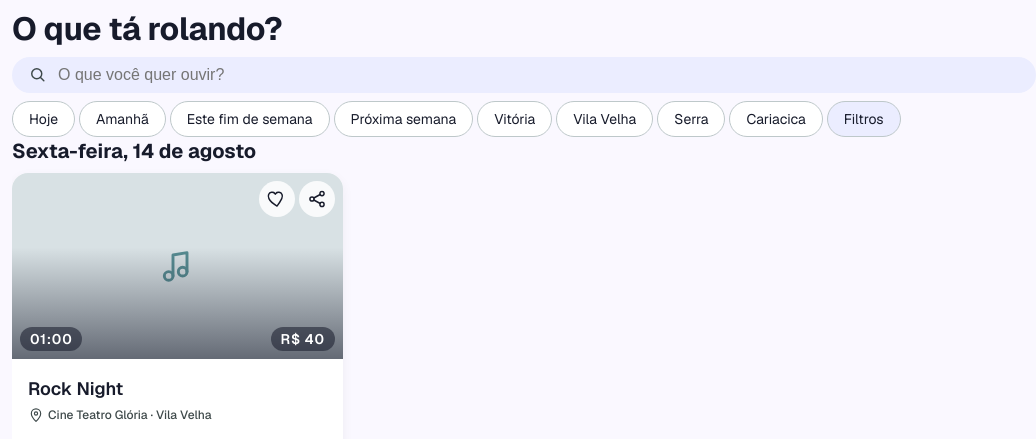
Test: EventFeedPage › given a visitor when typing a query then matching event cards replace the feed after debounce
Check: the heading "Rock Night" is shown, box [28, 377, 123, 400]
Type "forro" into the search field at point(538, 75), box [56, 65, 1020, 85]
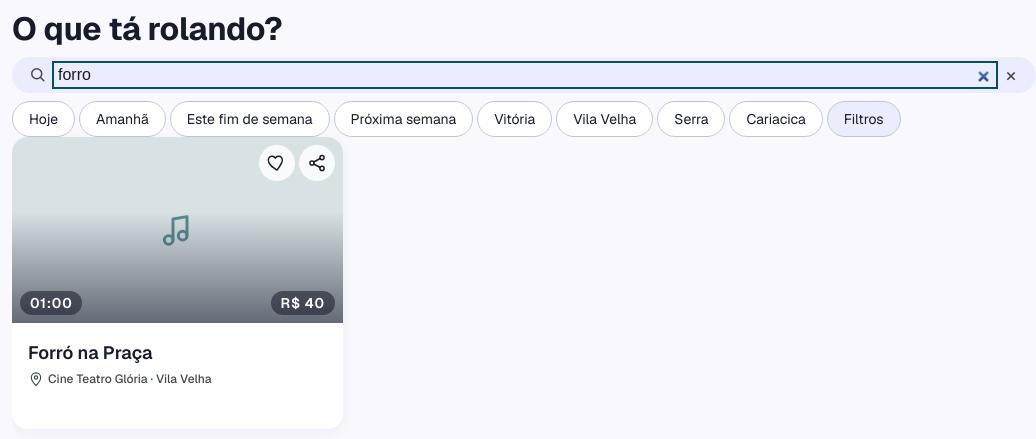
Check: the heading "Forró na Praça" is shown, box [28, 341, 152, 364]
Check: the link "Rock Night" is gone
